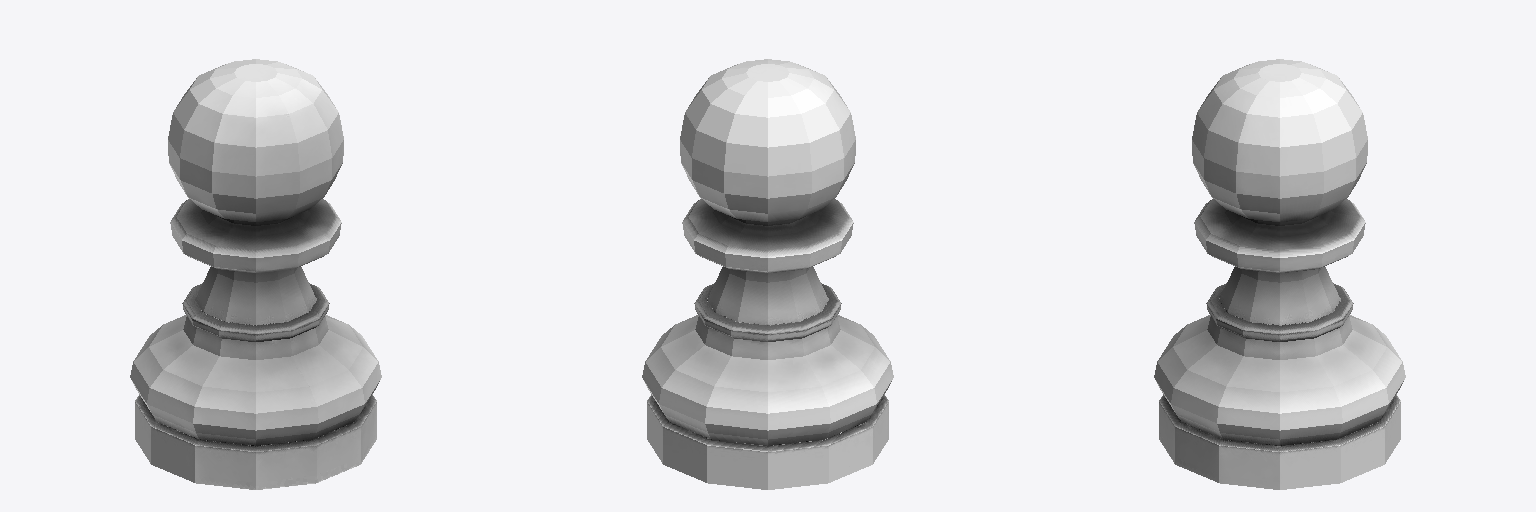
3 renders of one model, left to right at view 1: azimuth 30°, elevation 25°; view 2: azimuth 150°, elevation 25°; view 3: azimuth 270°, elevation 25°, orthographic.
Size of the model in its own units: 11.27 by 18.07 by 11.27.
1 materials, 1 textured.